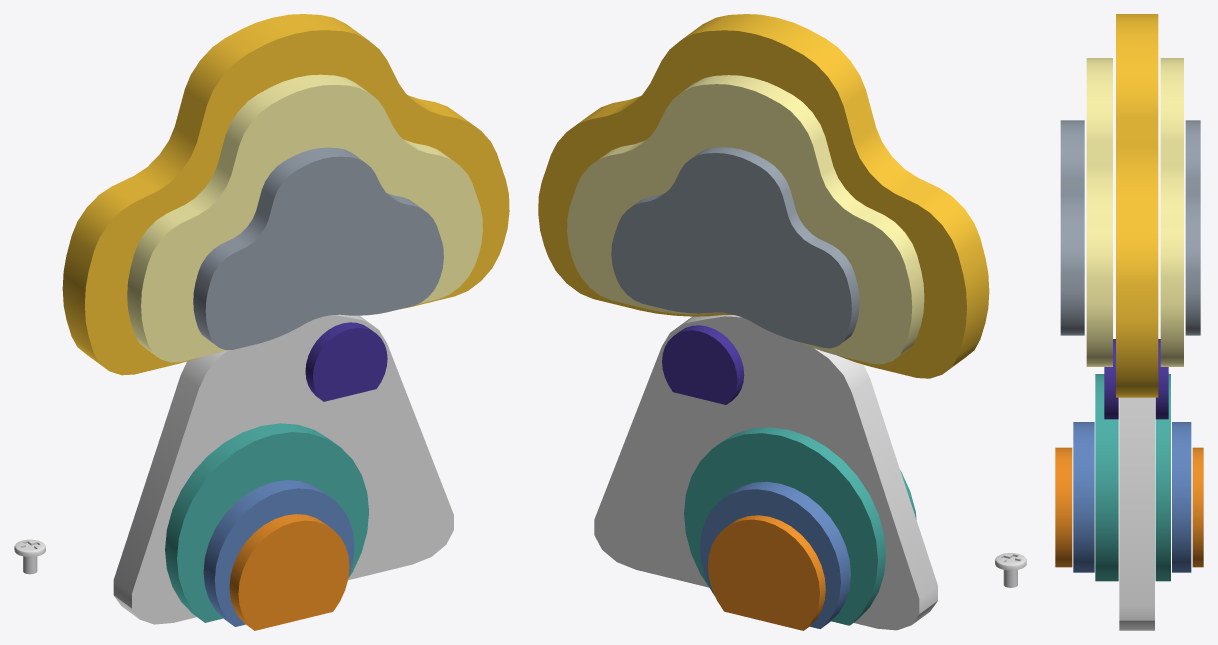
3 views of the same model, side by side, from view 1: azimuth 30°, elevation 25°; view 2: azimuth 150°, elevation 25°; view 3: azimuth 270°, elevation 25° (orthographic). The views are drawn at different scales.
Parts seen in each view (by area): view 1: Cube.348, Cube.351, Cube.349, Cube.350, Cylinder.062, Cylinder.064, Cylinder.063, Cylinder.065, obj_screw; view 2: Cube.348, Cube.351, Cube.352, Cube.353, Cylinder.066, Cylinder.068, Cylinder.067, Cylinder.069, obj_screw; view 3: Cube.348, Cube.351, Cube.349, Cube.352, Cube.350, Cylinder.062, Cube.353, Cylinder.063, Cylinder.067, Cylinder.066, Cylinder.064, Cylinder.068 (+2 smaller).
Part boxes in pixels (x1=…): Cube.348: x1=62, y1=14, x2=509, y2=375; Cube.351: x1=113, y1=314, x2=453, y2=624; Cube.349: x1=127, y1=74, x2=482, y2=362; Cube.350: x1=193, y1=147, x2=443, y2=350; Cylinder.062: x1=165, y1=423, x2=368, y2=622; Cylinder.064: x1=229, y1=514, x2=349, y2=630; Cylinder.063: x1=203, y1=480, x2=354, y2=626; Cylinder.065: x1=305, y1=322, x2=387, y2=401; obj_screw: x1=14, y1=539, x2=45, y2=574; Cube.348: x1=538, y1=14, x2=989, y2=378; Cube.351: x1=594, y1=315, x2=937, y2=630; Cube.352: x1=567, y1=75, x2=924, y2=364; Cube.353: x1=611, y1=147, x2=859, y2=348; Cylinder.066: x1=684, y1=427, x2=885, y2=625; Cylinder.068: x1=707, y1=515, x2=825, y2=630; Cylinder.067: x1=700, y1=481, x2=850, y2=628; Cylinder.069: x1=662, y1=325, x2=744, y2=404; obj_screw: x1=995, y1=553, x2=1026, y2=587; Cube.348: x1=1116, y1=14, x2=1158, y2=397; Cube.351: x1=1119, y1=397, x2=1154, y2=630; Cube.349: x1=1086, y1=58, x2=1112, y2=366; Cube.352: x1=1160, y1=58, x2=1183, y2=366; Cube.350: x1=1060, y1=120, x2=1084, y2=335; Cylinder.062: x1=1095, y1=374, x2=1118, y2=581; Cube.353: x1=1185, y1=120, x2=1200, y2=335; Cylinder.063: x1=1073, y1=422, x2=1094, y2=572; Cylinder.067: x1=1172, y1=422, x2=1191, y2=572; Cylinder.066: x1=1155, y1=374, x2=1170, y2=581; Cylinder.064: x1=1055, y1=447, x2=1072, y2=567; Cylinder.068: x1=1192, y1=447, x2=1203, y2=567.
Bounding box in the file's own units: 34.35 × 38.67 × 9.64.
